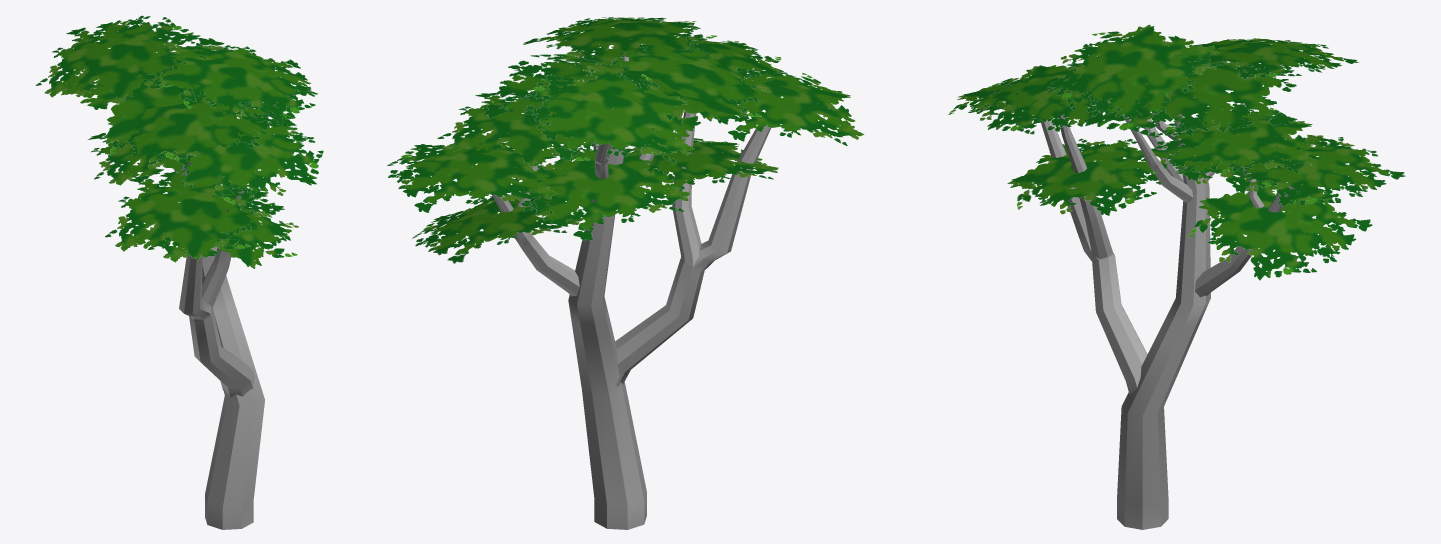
The model's file is prop_tree1 1.fbx.
3 renders of one model, left to right at view 1: azimuth 30°, elevation 25°; view 2: azimuth 150°, elevation 25°; view 3: azimuth 270°, elevation 25°, orthographic. The views are drawn at different scales.
Parts seen in each view (by area): view 1: pCylinder9, leaves_bent10, leaves_bent3, leaves_bent2, leaves_bent9, leaves_bent15, leaves_bent1, pCylinder10, leaves_bent13, leaves_bent14, pCylinder16; view 2: pCylinder9, leaves_bent3, leaves_bent14, leaves_bent8, pCylinder10, leaves_bent10, leaves_bent1, leaves_bent15, leaves_bent2, leaves_bent11, leaves_bent12, leaves_bent13 (+3 smaller); view 3: pCylinder9, leaves_bent2, leaves_bent12, leaves_bent1, leaves_bent13, leaves_bent11, leaves_bent8, pCylinder10, leaves_bent9, leaves_bent3, pCylinder16, pCylinder11 (+3 smaller).
Boxes of the visible parts, x1,y1,x2,y2 form: pCylinder9: (202,237,264,529); leaves_bent10: (105,169,268,260); leaves_bent3: (35,15,200,100); leaves_bent2: (158,41,317,123); leaves_bent9: (161,108,323,204); leaves_bent15: (108,91,276,174); leaves_bent1: (61,38,301,160); pCylinder10: (179,249,254,397); leaves_bent13: (141,195,298,268); leaves_bent14: (87,133,182,185); pCylinder16: (201,189,242,309); pCylinder9: (568,145,646,529); leaves_bent3: (522,66,694,163); leaves_bent14: (511,146,690,241); leaves_bent8: (387,134,558,212); pCylinder10: (615,100,778,386); leaves_bent10: (713,69,864,145); leaves_bent1: (482,48,749,156); leaves_bent15: (611,42,771,121); leaves_bent2: (523,17,717,65); leaves_bent11: (437,92,594,166); leaves_bent12: (412,194,583,263); leaves_bent13: (625,138,778,190); pCylinder9: (1117,103,1210,529); leaves_bent2: (1048,24,1223,121); leaves_bent12: (1188,172,1372,280); leaves_bent1: (1084,53,1297,136); leaves_bent13: (1007,138,1161,215); leaves_bent11: (1153,107,1317,180); leaves_bent8: (1220,134,1405,206); pCylinder10: (1041,120,1147,394); leaves_bent9: (977,63,1110,134); leaves_bent3: (1181,38,1358,79); pCylinder16: (1058,114,1113,259); pCylinder11: (1195,186,1294,297).
Size of the model in its own units: 5.6 by 7.02 by 7.04.
